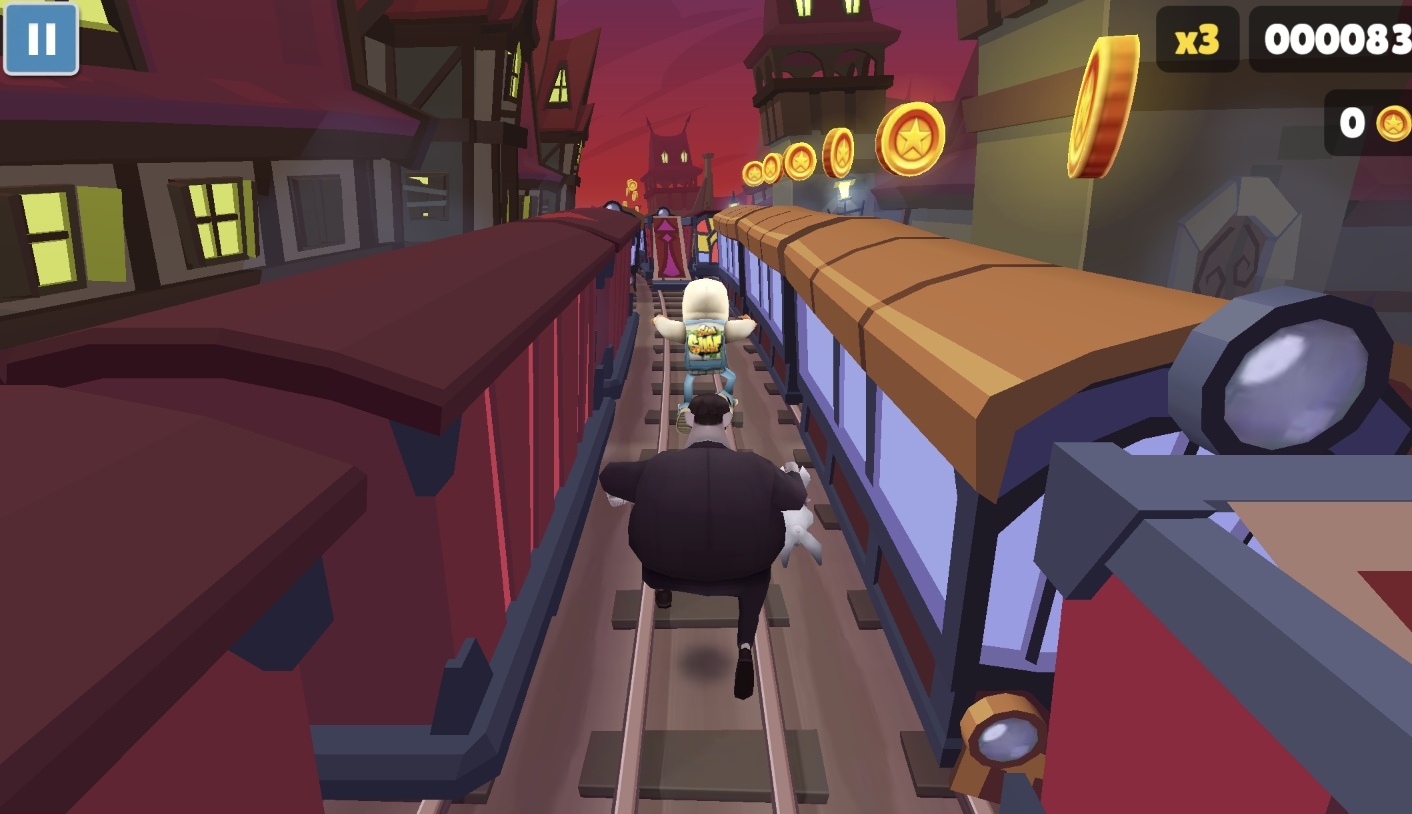train: (710, 204, 1412, 814), (0, 207, 640, 814), (1054, 500, 1412, 814), (641, 207, 689, 293), (600, 212, 641, 309), (685, 213, 722, 277)
